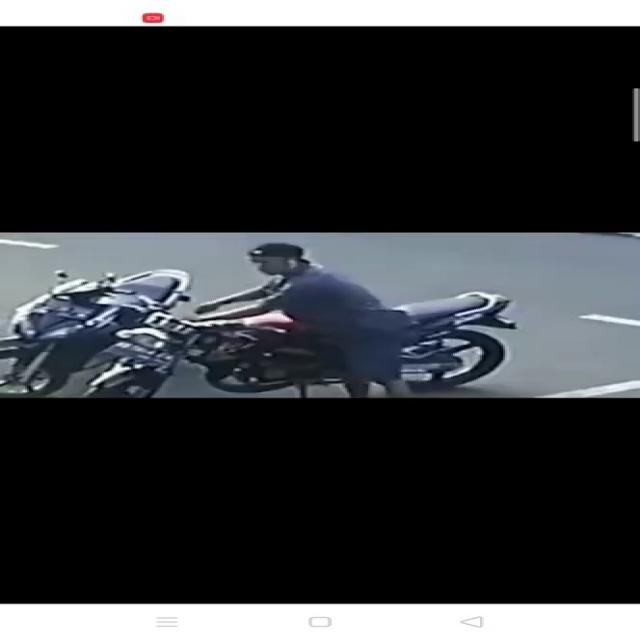pencurian: (88, 242, 520, 396)
